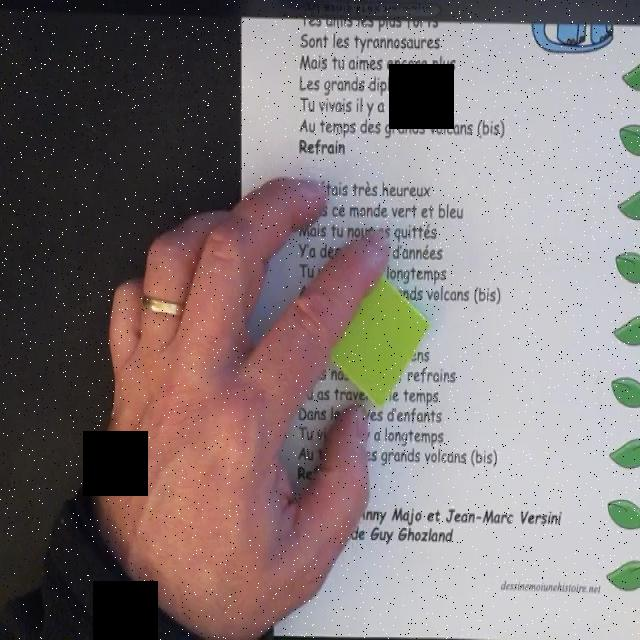square: (318, 262, 432, 409)
